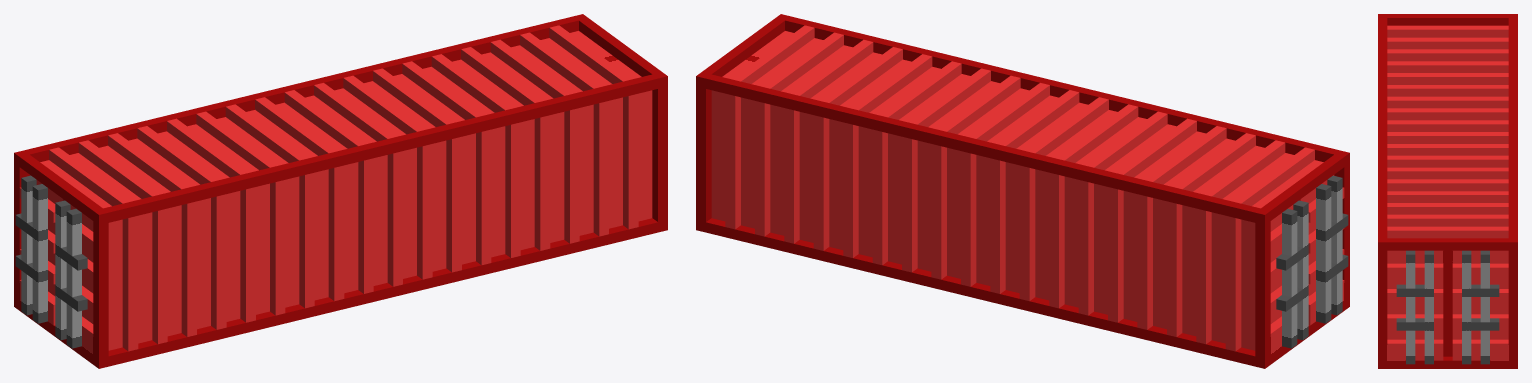
Rendered from obj_container1.fbx.
3 renders of one model, left to right at view 1: azimuth 30°, elevation 25°; view 2: azimuth 150°, elevation 25°; view 3: azimuth 270°, elevation 25°, orthographic. The views are drawn at different scales.
Parts seen in each view (by area): view 1: obj_container1; view 2: obj_container1; view 3: obj_container1.
Part boxes in pixels (<box>): obj_container1: <box>14,14,667,368</box>; obj_container1: <box>696,14,1349,368</box>; obj_container1: <box>1378,14,1517,368</box>.
Bounding box in the file's own units: 6 × 1.5 × 1.5.
Materials: 1 (1 with a texture image).
